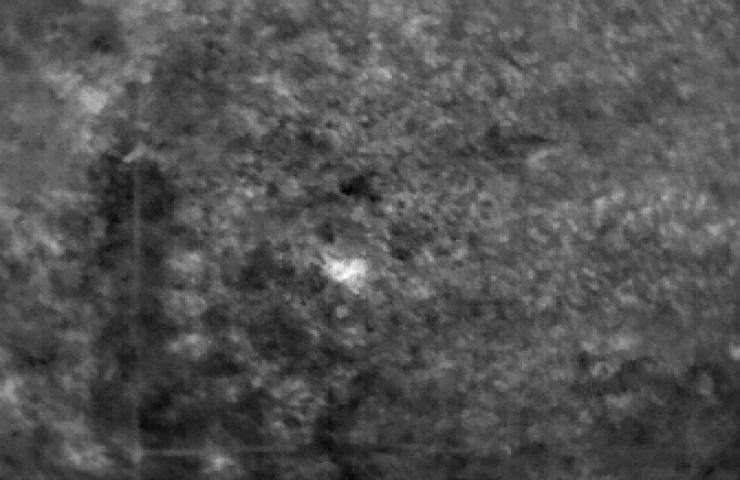landmines: (330, 253, 369, 290)
